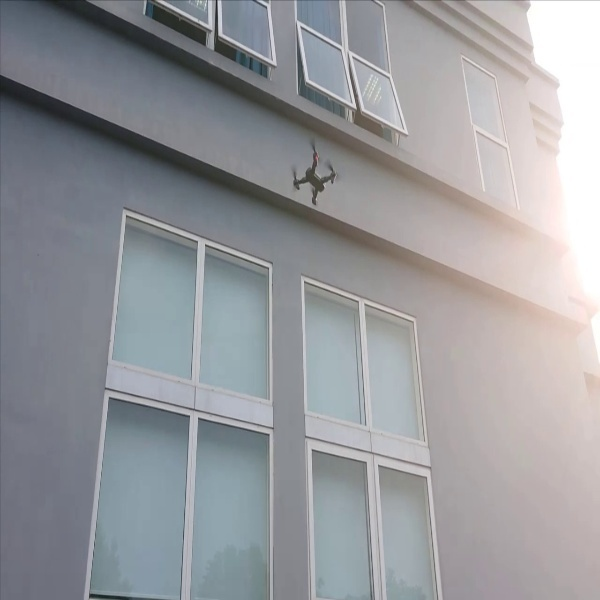drone: (283, 131, 347, 215)
